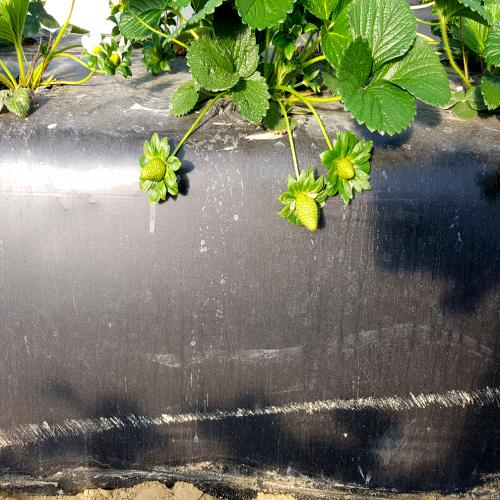unripe: (292, 188, 324, 238), (138, 153, 166, 189)
